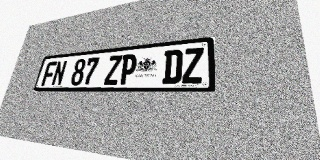7: (81, 57, 100, 85)
8: (69, 58, 87, 85)
D: (162, 49, 183, 84)
F: (41, 61, 57, 86)
N: (51, 60, 68, 86)
P: (118, 53, 138, 85)
Z: (182, 47, 204, 84), (103, 55, 123, 85)
